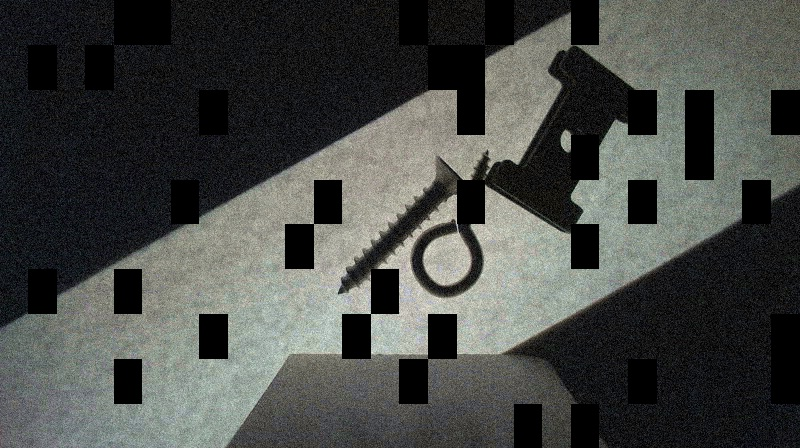O001: (409, 149, 489, 302)
O002: (485, 42, 650, 233)
S001: (337, 154, 474, 296)
